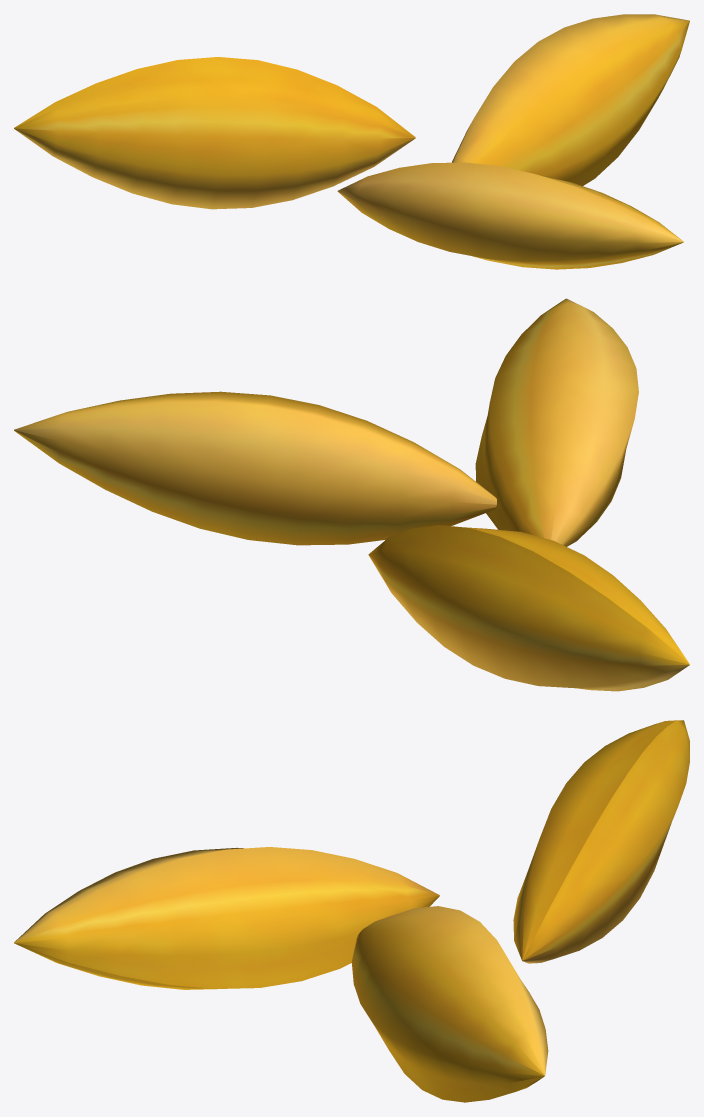
Rendered from NP_Rice_Seed.fbx.
3 views of the same model, one above another, from view 1: azimuth 30°, elevation 25°; view 2: azimuth 150°, elevation 25°; view 3: azimuth 270°, elevation 25° (orthographic). The views are drawn at different scales.
Parts seen in each view (by area): view 1: NP_Rice_Seed; view 2: NP_Rice_Seed; view 3: NP_Rice_Seed.
Part boxes in pixels (box(x1,y1,x2,y2)): NP_Rice_Seed: box(14, 14, 689, 269); NP_Rice_Seed: box(14, 298, 689, 691); NP_Rice_Seed: box(14, 720, 689, 1102).
Size of the model in its own units: 17.17 by 3.53 by 13.82.
